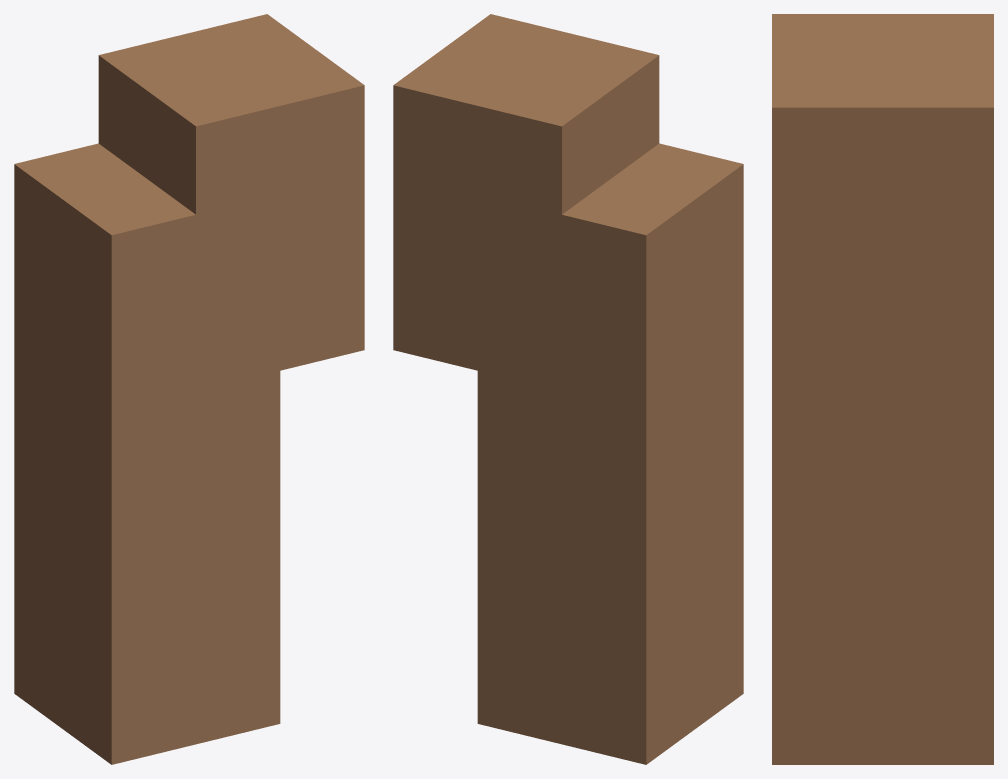
The model's file is char-17-arm_up_lgt_0.obj.
3 renders of one model, left to right at view 1: azimuth 30°, elevation 25°; view 2: azimuth 150°, elevation 25°; view 3: azimuth 270°, elevation 25°, orthographic. The views are drawn at different scales.
Parts seen in each view (by area): view 1: arm_up_lgt_0; view 2: arm_up_lgt_0; view 3: arm_up_lgt_0.
Part boxes in pixels (box(x1,y1,x2,y2)): arm_up_lgt_0: box(14, 14, 364, 764); arm_up_lgt_0: box(393, 14, 743, 764); arm_up_lgt_0: box(772, 14, 993, 764).
Size of the model in its own units: 0.3 by 0.7 by 0.2.
Materials: 1 (1 with a texture image).
